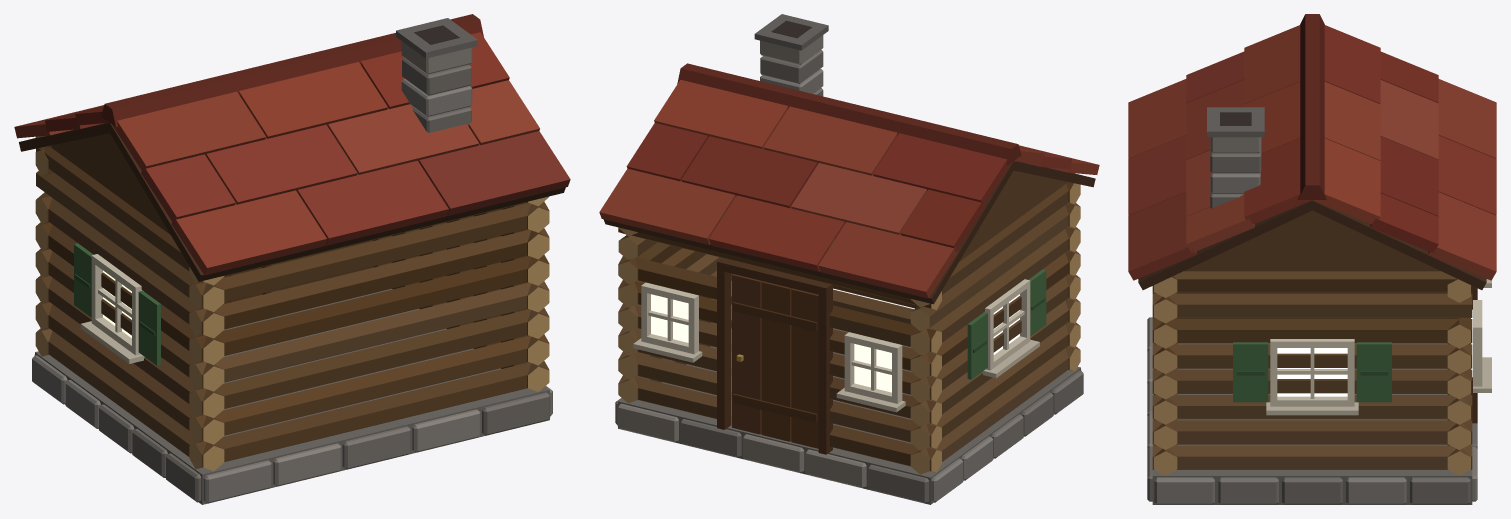
The model's file is Cabin.glb.
3 views of the same model, side by side, from view 1: azimuth 30°, elevation 25°; view 2: azimuth 150°, elevation 25°; view 3: azimuth 270°, elevation 25° (orthographic). The views are drawn at different scales.
Visible parts, largest first — view 1: Body, Roof; view 2: Body, Roof, Glow; view 3: Body, Roof, Glow.
Part boxes in pixels (<box>): Body: <box>32,18,552,504</box>; Roof: <box>14,14,570,281</box>; Body: <box>615,14,1083,504</box>; Roof: <box>599,63,1099,304</box>; Glow: <box>651,294,1019,392</box>; Body: <box>1147,107,1491,504</box>; Roof: <box>1128,14,1496,289</box>; Glow: <box>1277,309,1472,396</box>.
Size of what is drawn, in the model's own units: 12.94 by 12.21 by 11.53.
